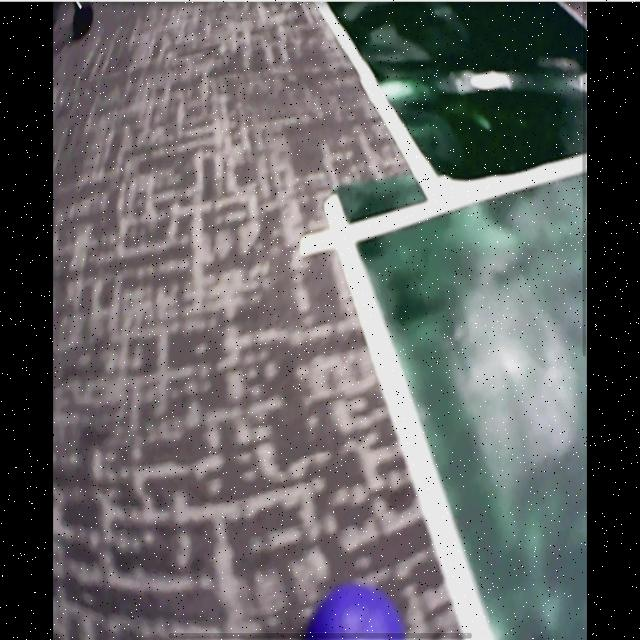ball: (312, 591, 407, 640)
